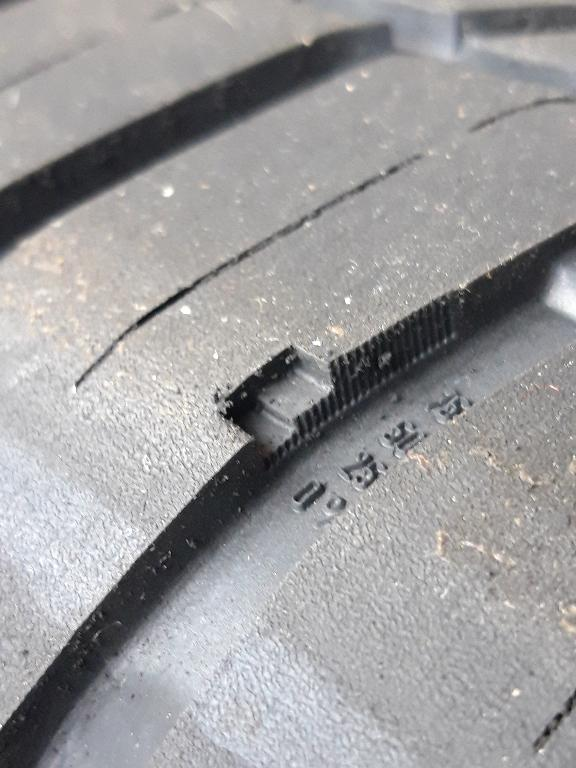temoin:50: (208, 322, 389, 477)
